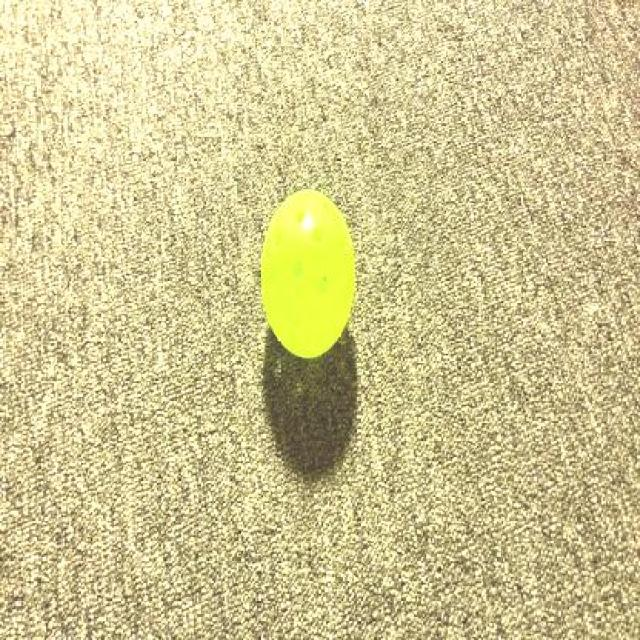ball: (257, 186, 373, 368)
